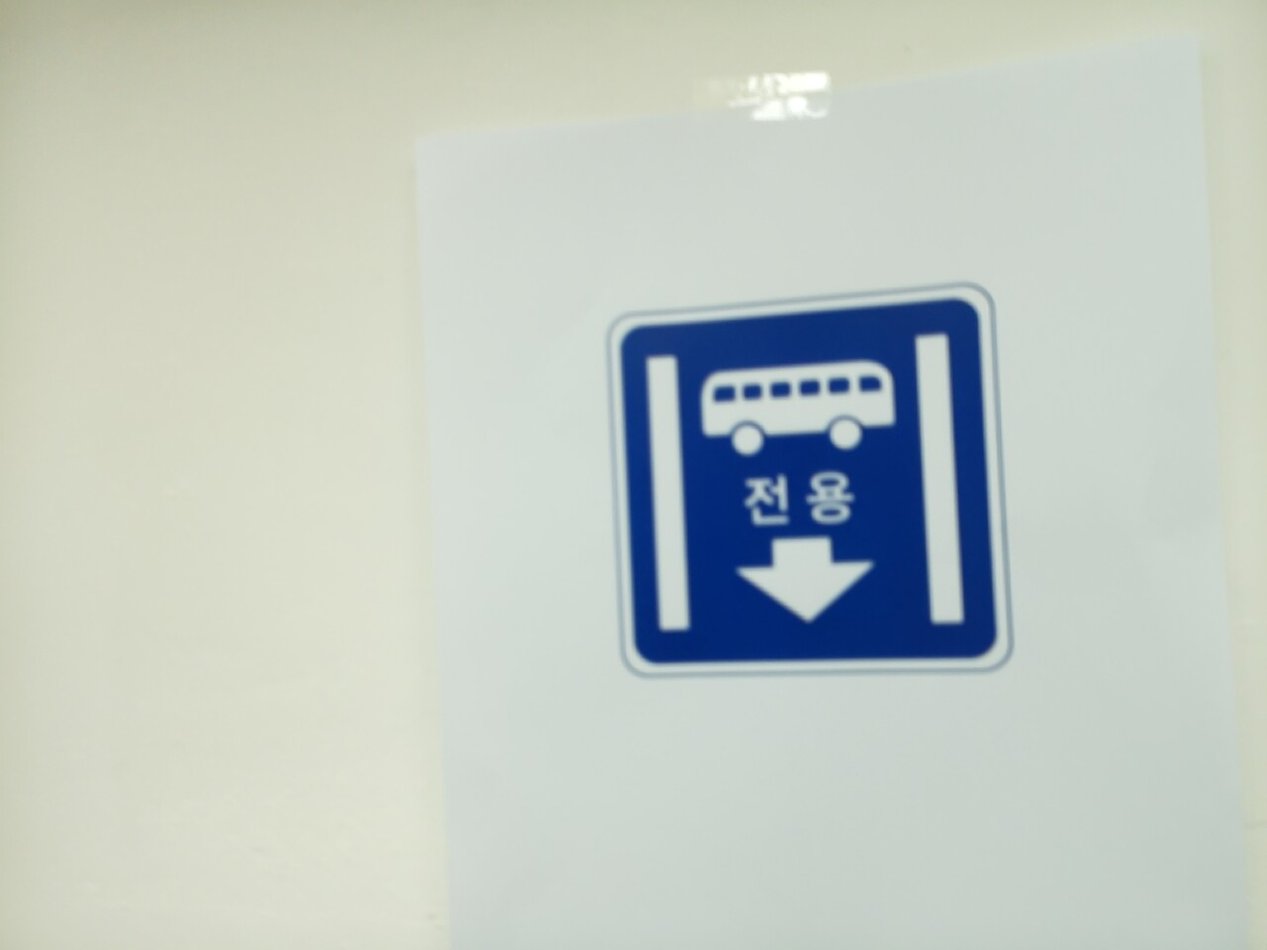bus_only_lane: (610, 288, 1008, 675)
